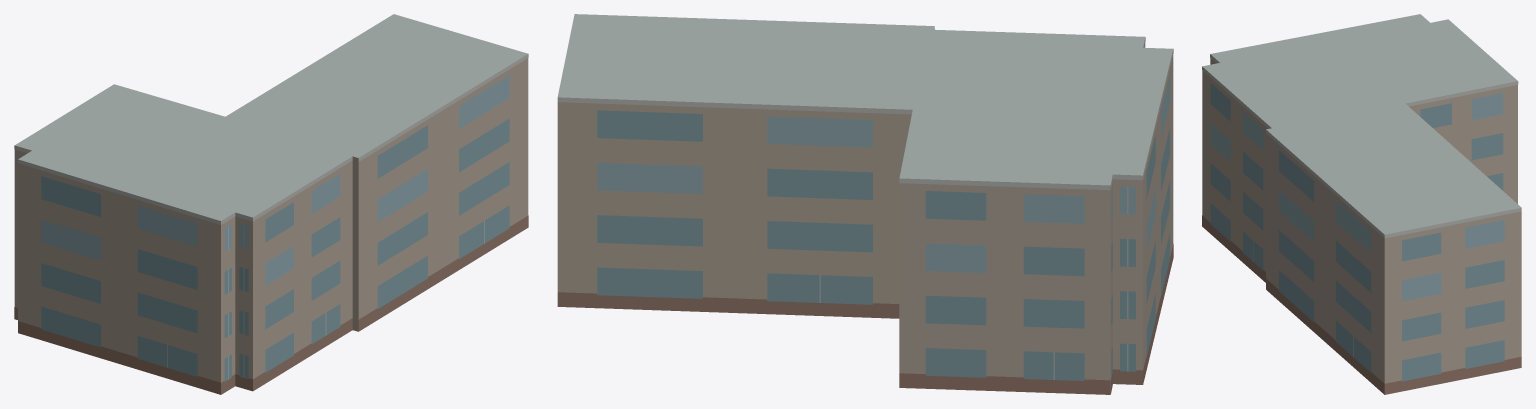
The model's file is survey-upis-32593827.glb.
The picture shows the model from 3 angles, left to right: view 1: azimuth 30°, elevation 25°; view 2: azimuth 150°, elevation 25°; view 3: azimuth 270°, elevation 25°; orthographic projection. The views are drawn at different scales.
Parts seen in each view (by area): view 1: survey-upis-32593827.tmp; view 2: survey-upis-32593827.tmp; view 3: survey-upis-32593827.tmp.
Part boxes in pixels (bbox=[...]): survey-upis-32593827.tmp: bbox=[14, 14, 528, 394]; survey-upis-32593827.tmp: bbox=[557, 14, 1173, 394]; survey-upis-32593827.tmp: bbox=[1202, 14, 1521, 394].
Size of the model in its own units: 31.65 by 10.7 by 19.36.
